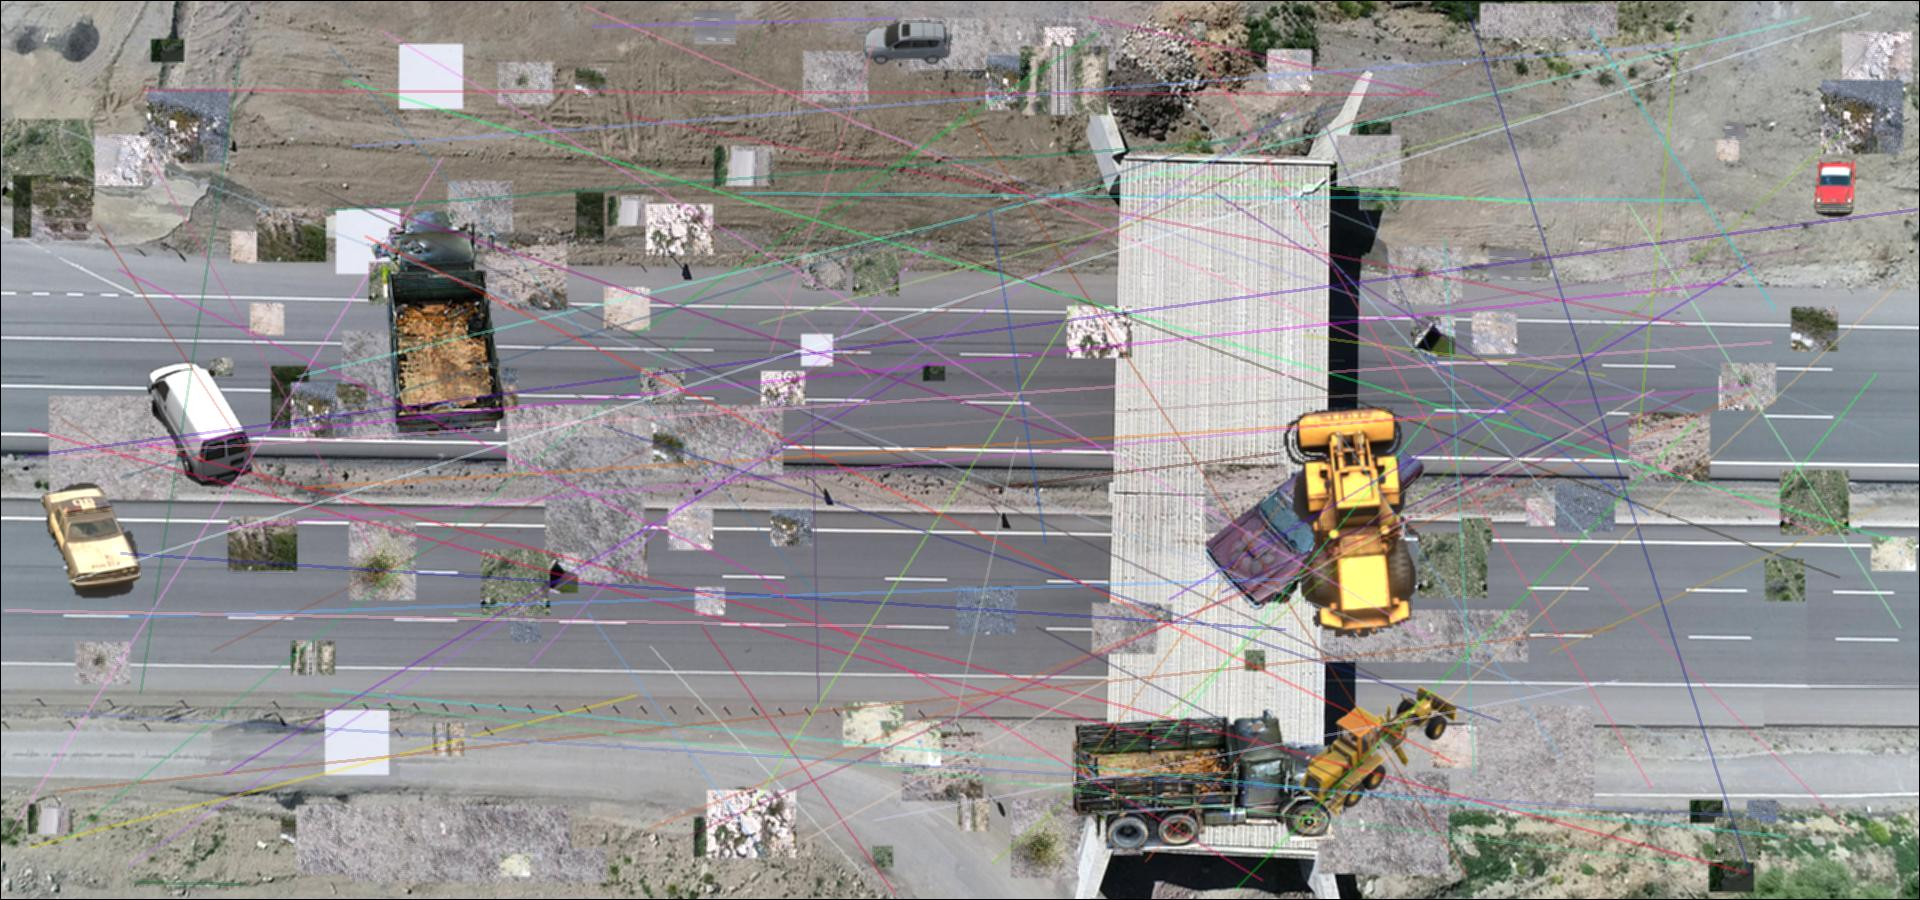arac: (1205, 414, 1427, 609), (1278, 400, 1449, 647), (1071, 709, 1353, 849), (366, 201, 514, 441), (1298, 681, 1461, 819), (143, 358, 252, 486), (34, 481, 146, 598), (862, 20, 958, 66), (1813, 159, 1858, 218)
